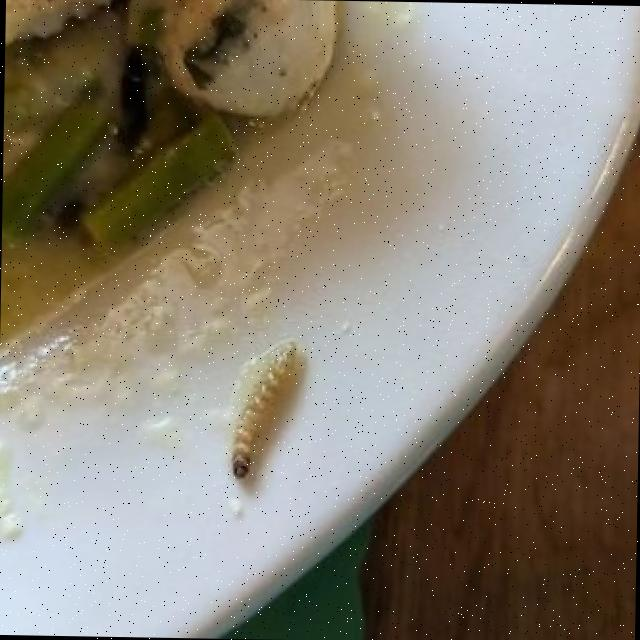worm: (219, 327, 310, 503)
